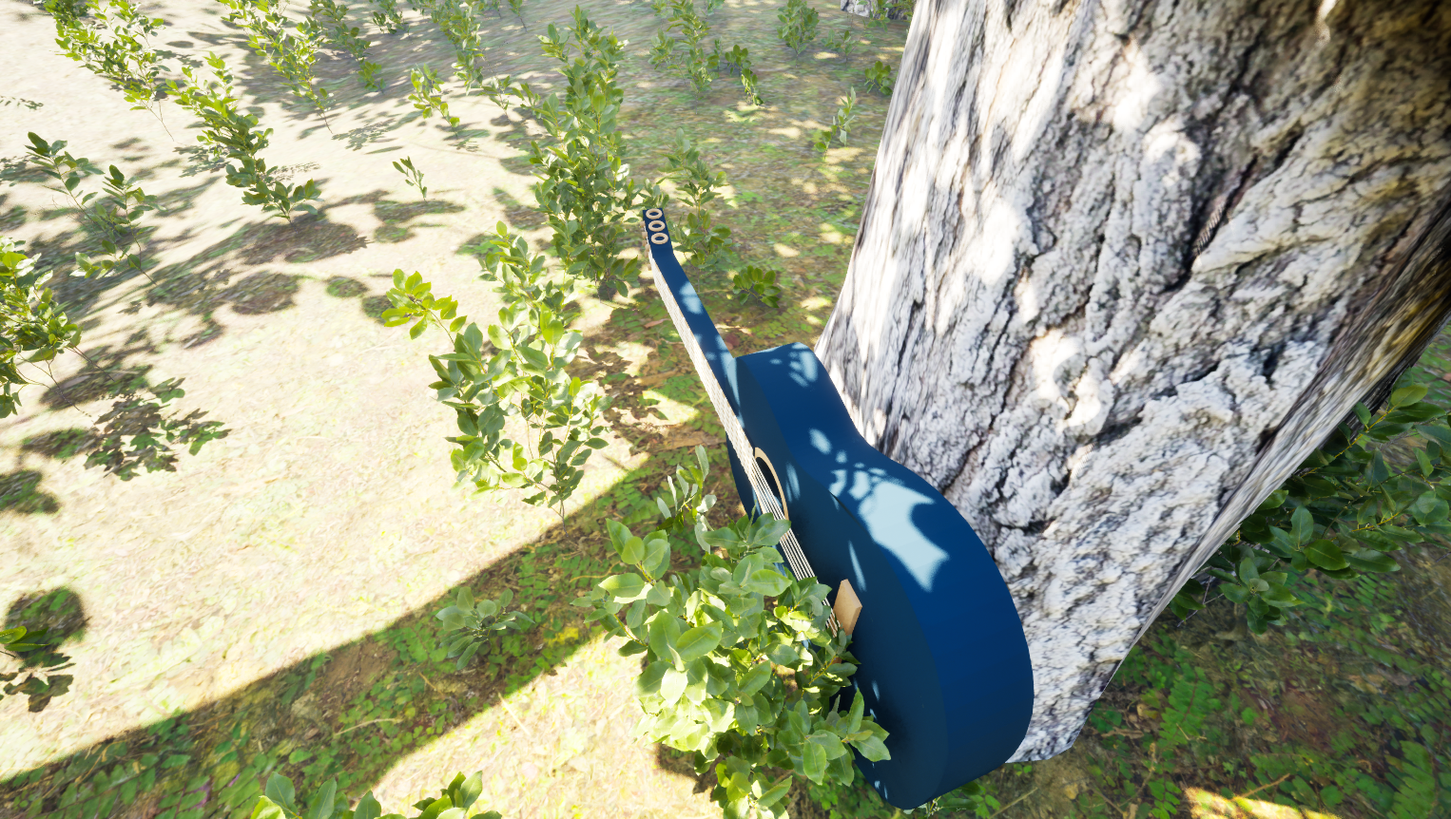Guitar: (617, 117, 1096, 819)
